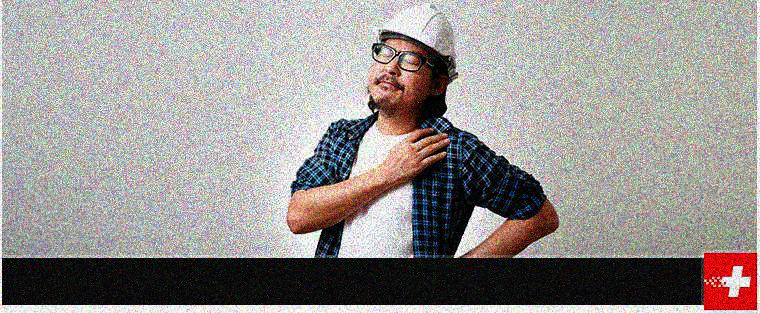helmet: (365, 1, 458, 112)
